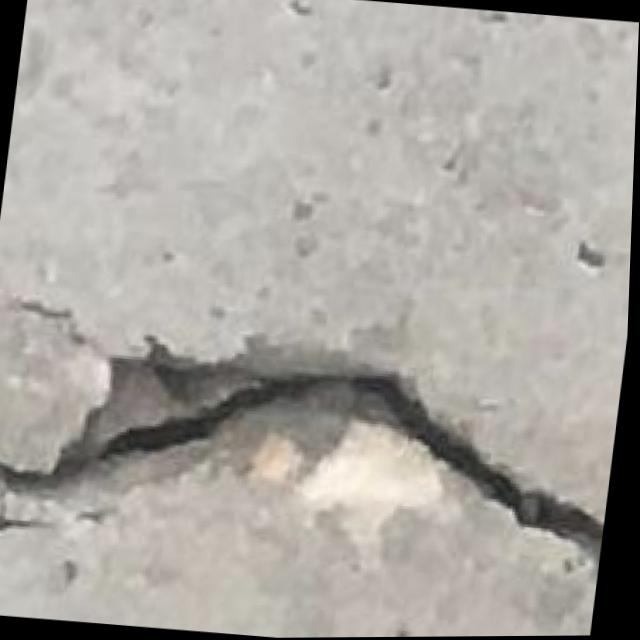Crack: (0, 275, 632, 601)
